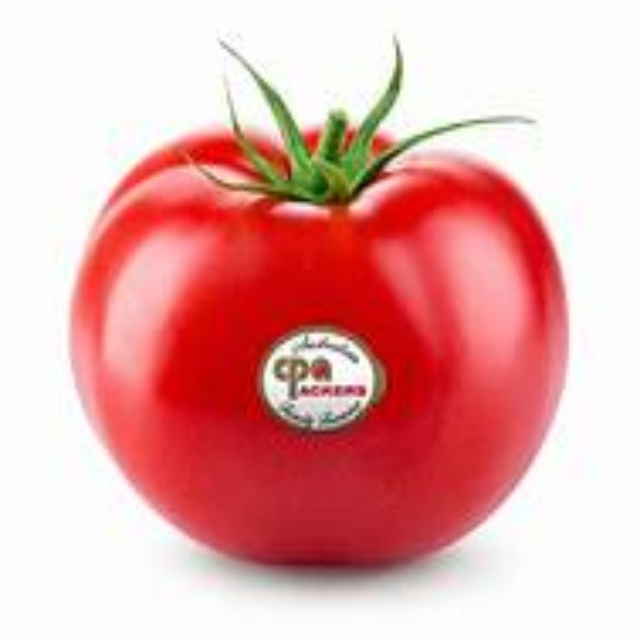tomato: (62, 108, 574, 580)
